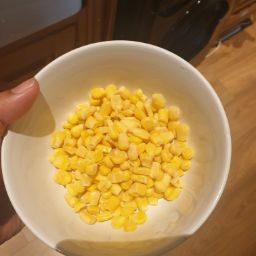Corn Kernel: (60, 87, 191, 210), (94, 81, 192, 231), (84, 89, 139, 245), (47, 110, 101, 236), (70, 119, 160, 180)
